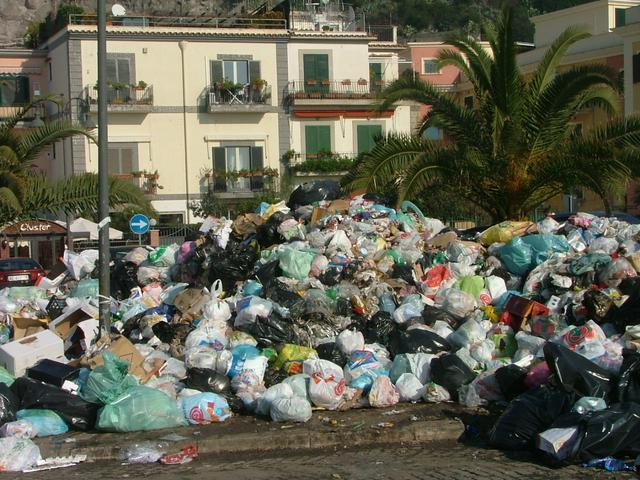garbage: (120, 249, 614, 404), (6, 289, 109, 419), (265, 208, 417, 256)
